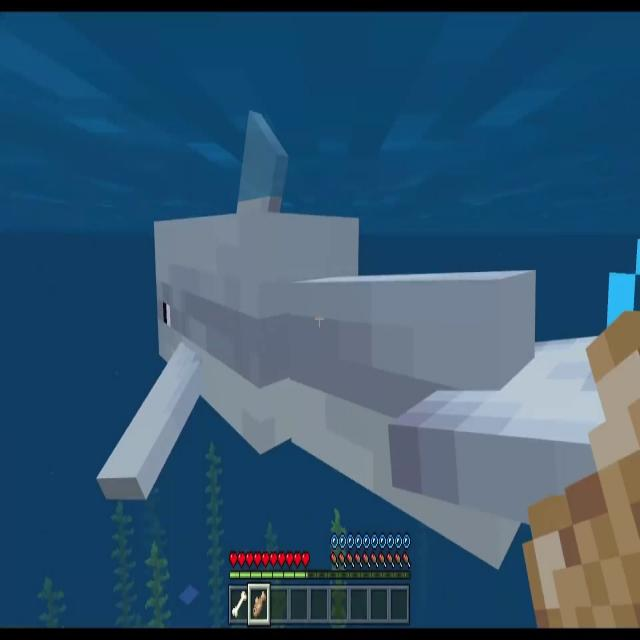Dolphin: (92, 106, 640, 577)
